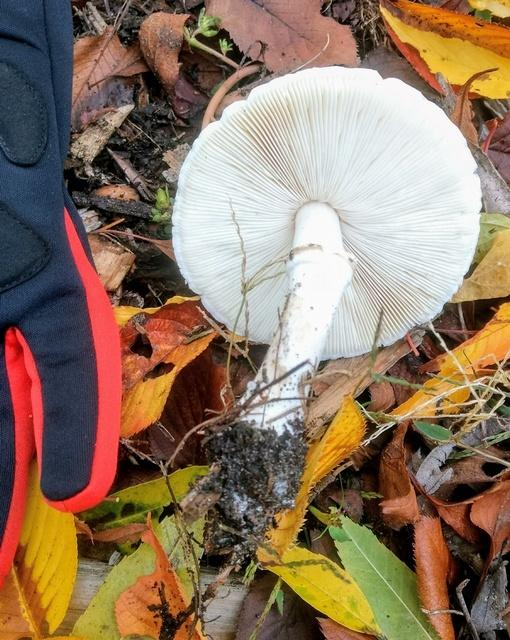Non-edible Mushroom: (150, 38, 486, 563)
